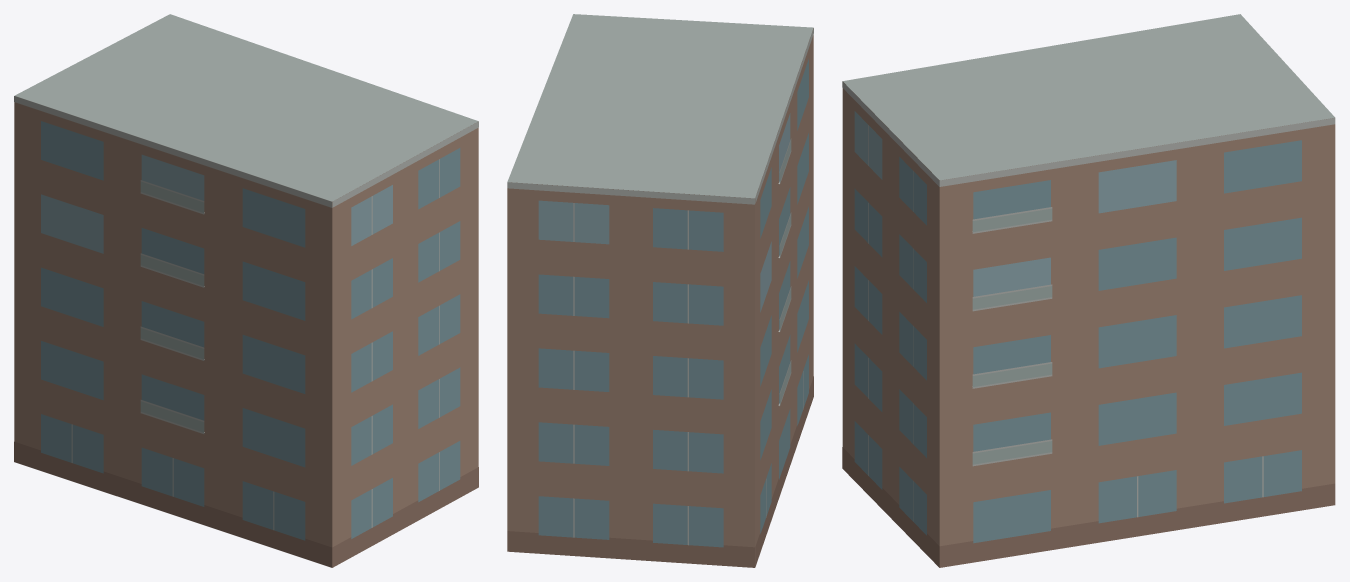
The model's file is survey-upis-32881767.glb.
3 renders of one model, left to right at view 1: azimuth 30°, elevation 25°; view 2: azimuth 150°, elevation 25°; view 3: azimuth 270°, elevation 25°, orthographic. The views are drawn at different scales.
Parts seen in each view (by area): view 1: survey-upis-32881767.tmp; view 2: survey-upis-32881767.tmp; view 3: survey-upis-32881767.tmp.
Boxes of the visible parts, x1,y1,x2,y2 form: survey-upis-32881767.tmp: (14,14,478,567); survey-upis-32881767.tmp: (507,14,813,567); survey-upis-32881767.tmp: (842,14,1335,567).
Size of the model in its own units: 13.28 by 14.4 by 16.61.
